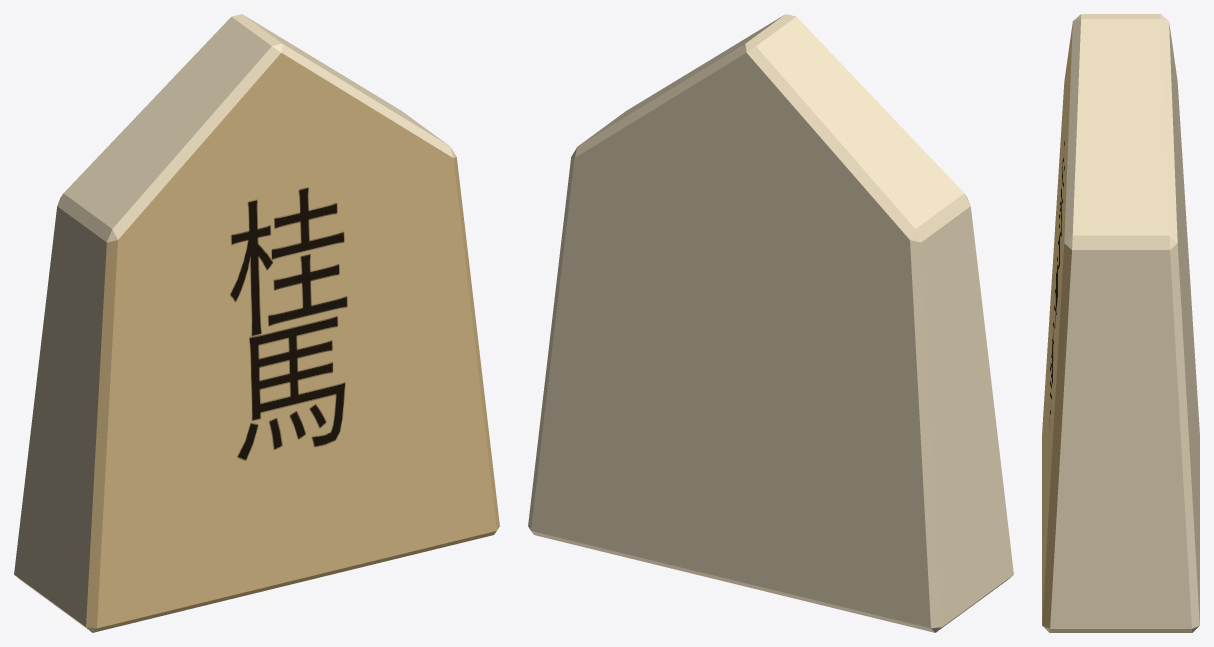
Rendered from Shogi_Knight.glb.
3 renders of one model, left to right at view 1: azimuth 30°, elevation 25°; view 2: azimuth 150°, elevation 25°; view 3: azimuth 270°, elevation 25°, orthographic.
Parts seen in each view (by area): view 1: Shogi_Knight; view 2: Shogi_Knight; view 3: Shogi_Knight.
Boxes of the visible parts, x1=… form: Shogi_Knight: x1=14, y1=14, x2=499, y2=632; Shogi_Knight: x1=528, y1=14, x2=1013, y2=632; Shogi_Knight: x1=1042, y1=14, x2=1199, y2=632.
Size of the model in its own units: 0.023 by 0.028 by 0.0077.
Materials: 2 (1 with a texture image).
